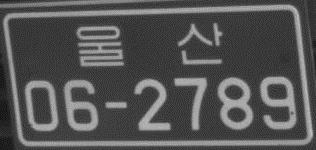-: (103, 98, 131, 113)
0: (21, 78, 60, 134)
2: (132, 77, 174, 134)
6: (62, 78, 99, 134)
7: (170, 75, 210, 133)
8: (216, 75, 254, 130)
9: (256, 73, 298, 133)
울산_D: (74, 19, 225, 70)
